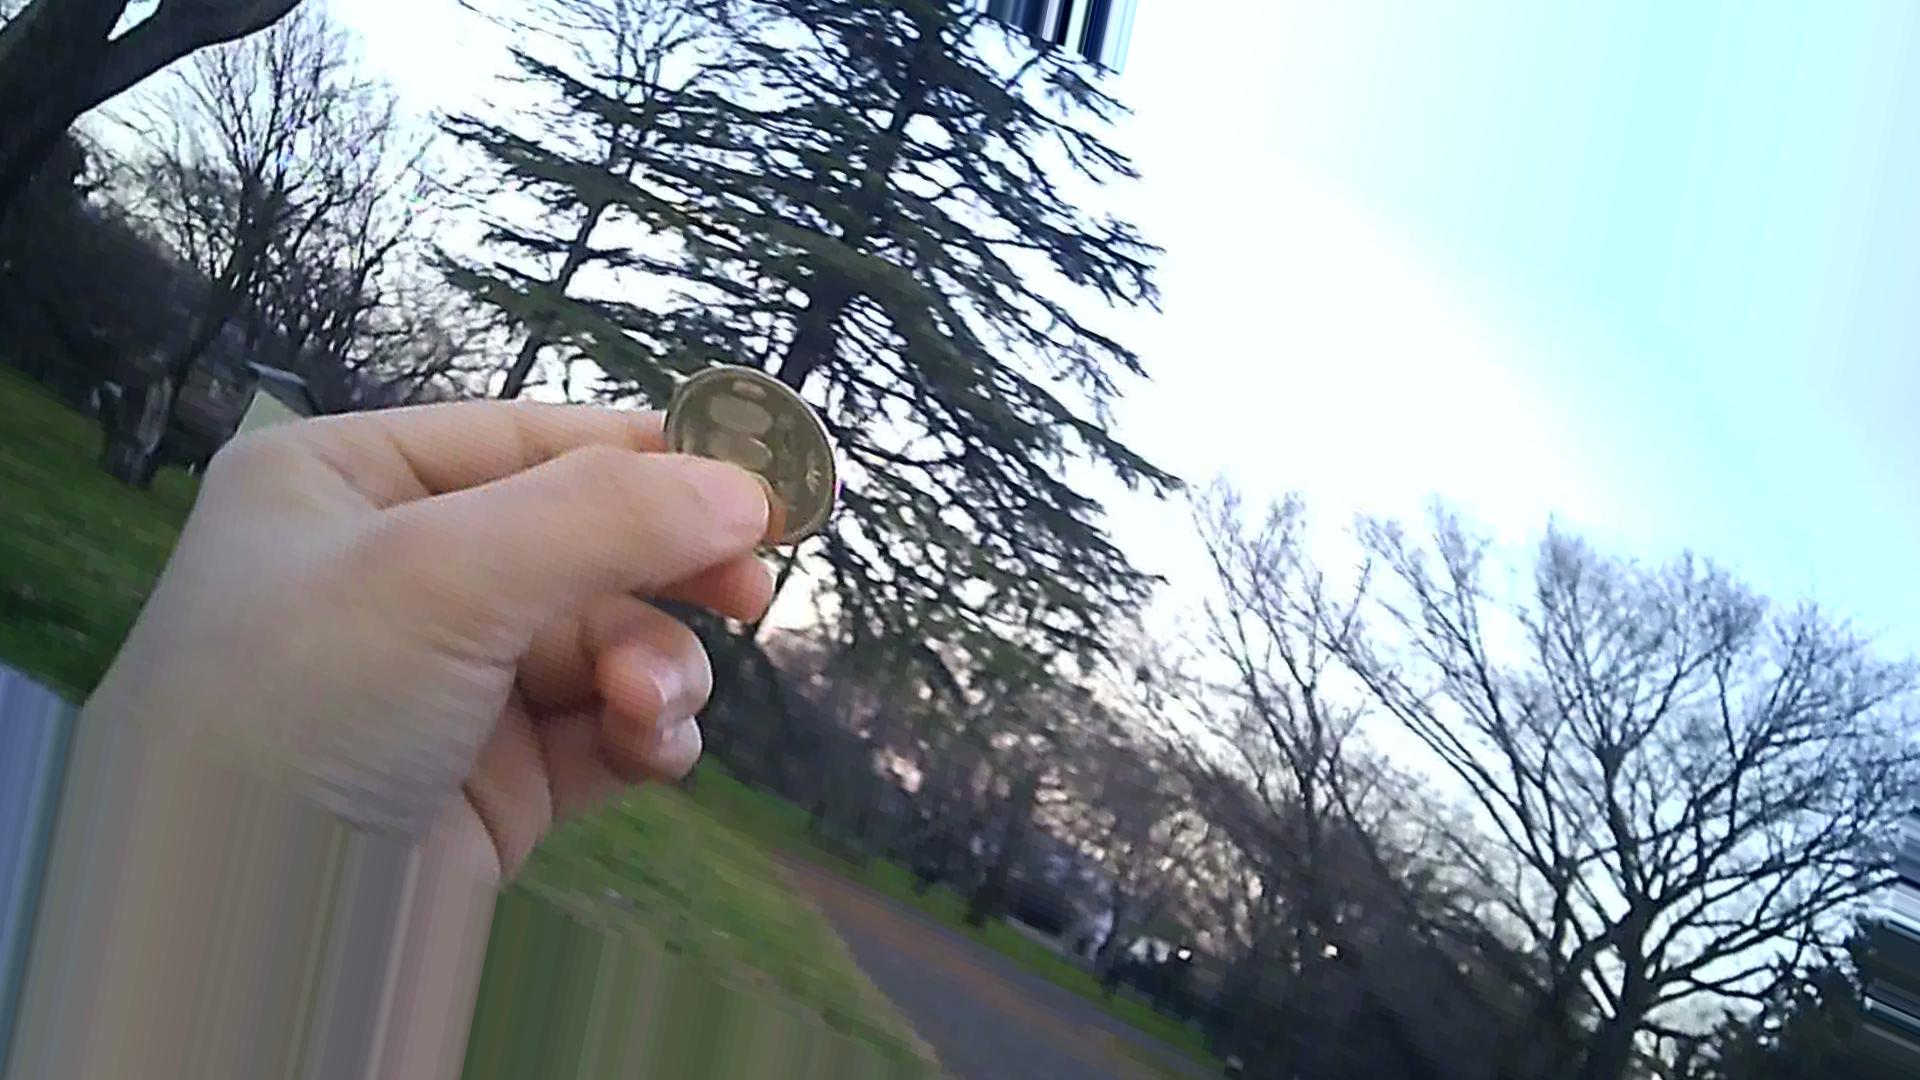500 Yen: (665, 368, 833, 549)
